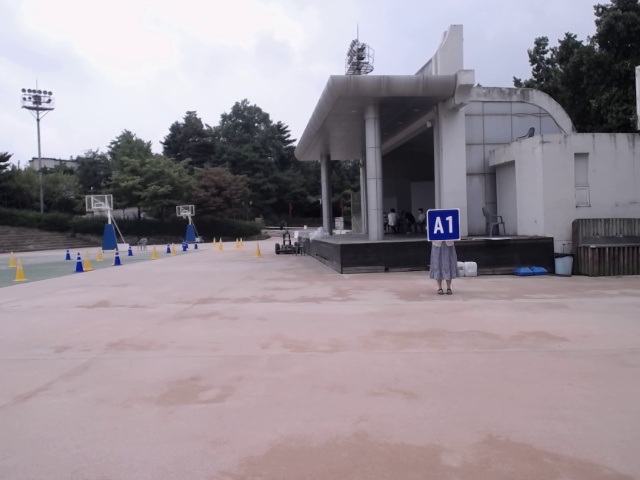delivery_a1: (427, 208, 459, 240)
